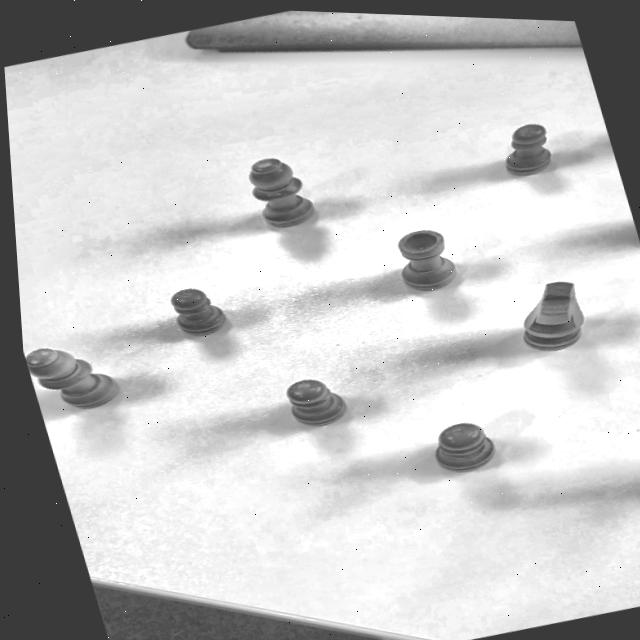black-bishop: (221, 138, 333, 247), (21, 322, 139, 425)
black-knight: (499, 260, 608, 369)
black-pawn: (410, 397, 523, 486), (474, 103, 580, 197), (260, 359, 372, 445), (148, 267, 249, 349)
black-rook: (361, 204, 481, 313)
